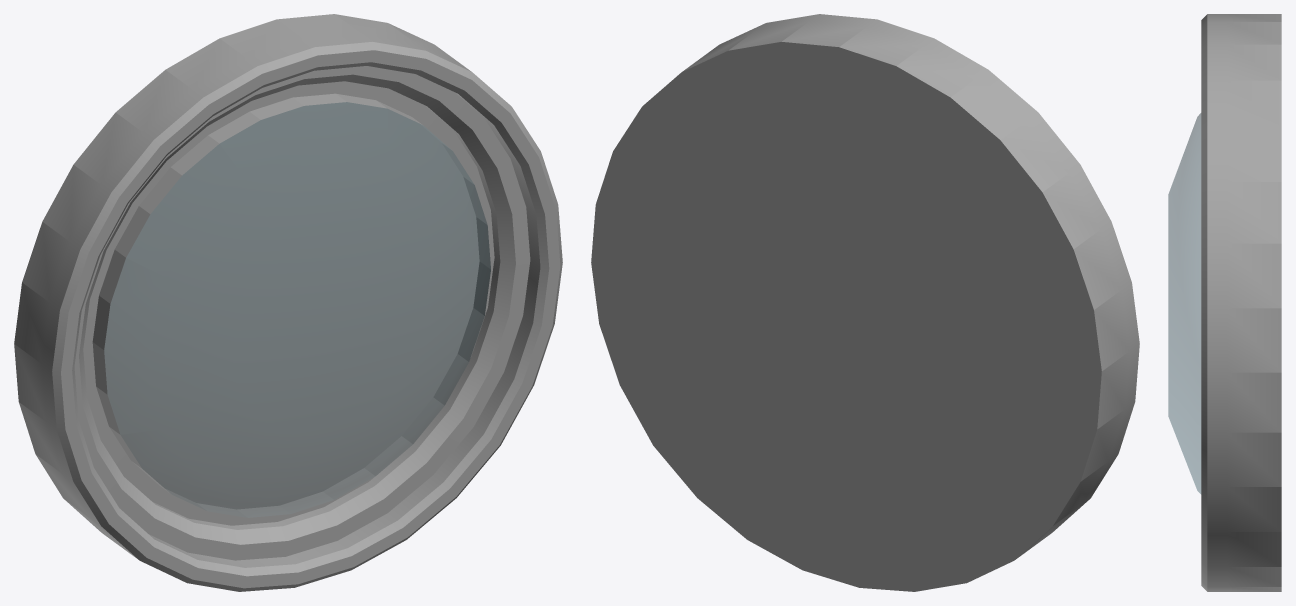
The model's file is SM_Luce_muro.fbx.
3 renders of one model, left to right at view 1: azimuth 30°, elevation 25°; view 2: azimuth 150°, elevation 25°; view 3: azimuth 270°, elevation 25°, orthographic. The views are drawn at different scales.
Visible parts, largest first — view 1: SM_Luce_da_muro; view 2: SM_Luce_da_muro; view 3: SM_Luce_da_muro.
Part boxes in pixels (bbox=[...]): SM_Luce_da_muro: bbox=[14, 14, 562, 591]; SM_Luce_da_muro: bbox=[591, 14, 1139, 591]; SM_Luce_da_muro: bbox=[1168, 14, 1281, 591].
Size of the model in its own units: 0.00689 by 0.0069 by 0.00136.
